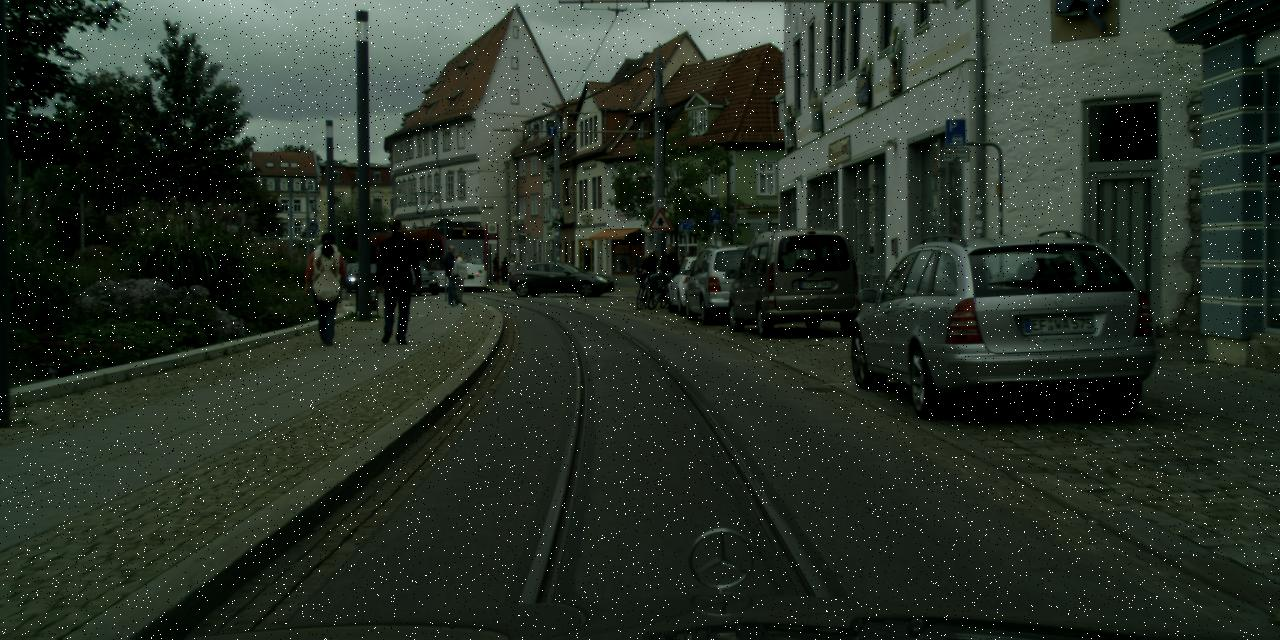ped: (368, 218, 419, 341), (306, 232, 350, 343), (443, 245, 468, 308), (656, 243, 678, 296), (640, 249, 660, 299), (490, 253, 501, 281), (499, 256, 509, 282), (508, 259, 518, 283)
